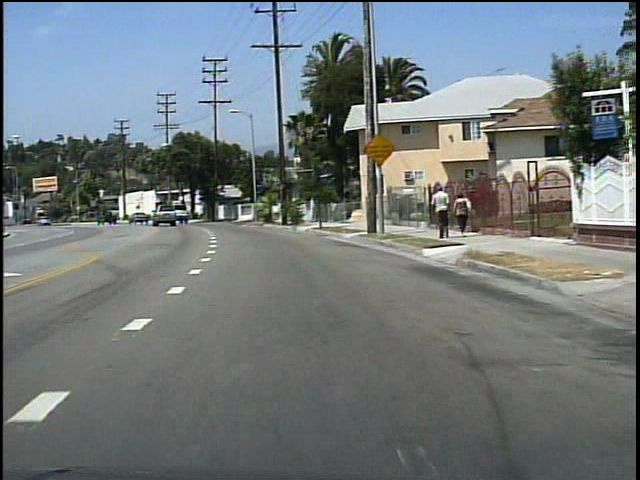person: (428, 182, 450, 241), (449, 189, 473, 239)
